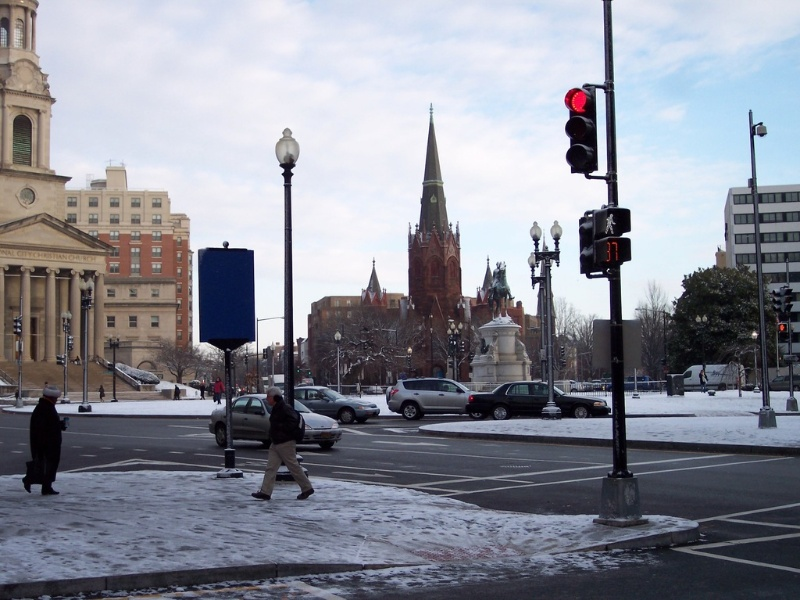pedestrian_crossing_green: (596, 206, 627, 236)
red_light: (561, 83, 598, 114)
